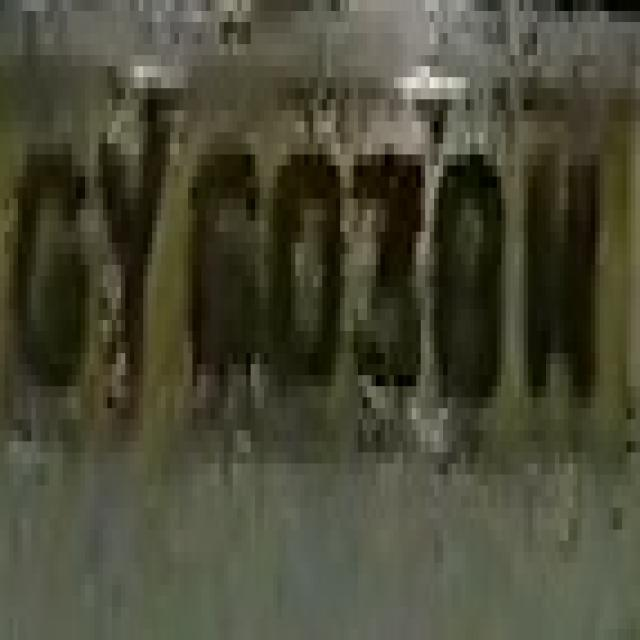0: (264, 110, 345, 430)
3: (331, 110, 425, 463)
6: (188, 89, 260, 442)
8: (420, 110, 506, 452)
G: (13, 110, 98, 430)
M: (510, 110, 609, 474)
Y: (99, 77, 174, 397)
